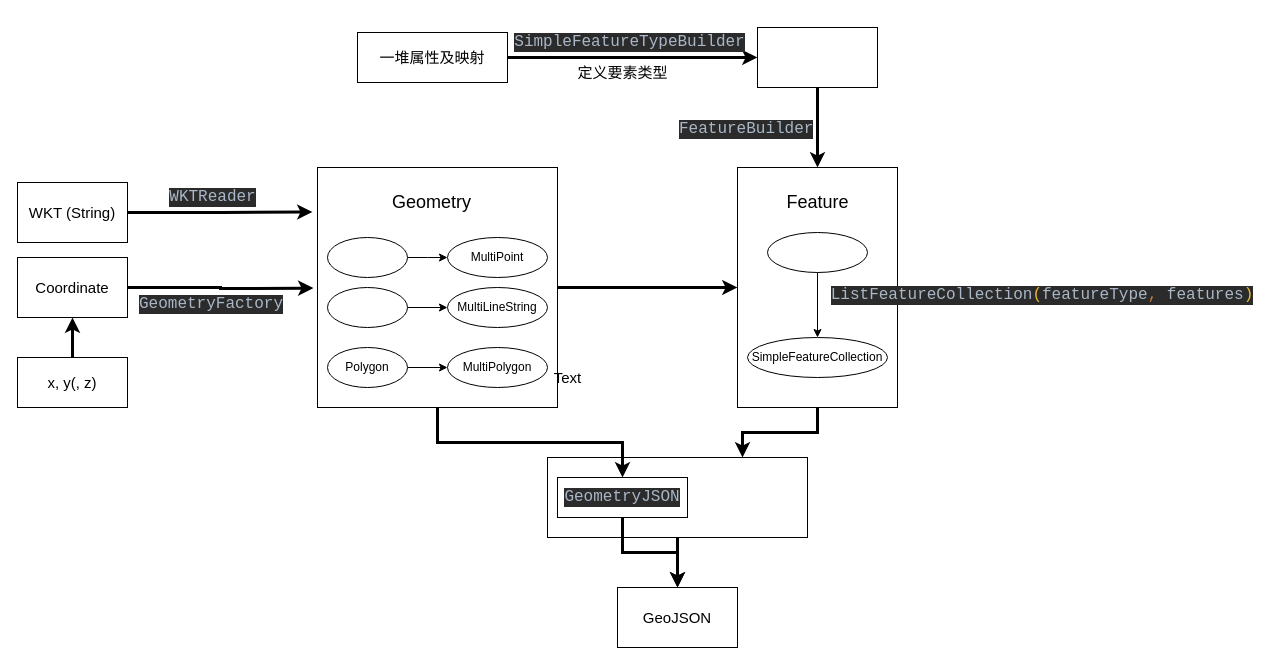
This 1285x665 diagram has some shape labels left out. The centre of each missing label's shape, as x and y in pixels:
"FeatureJSON" goes at point 677,497.
"FeatureType" goes at point 817,57.
"LineString" goes at point 367,307.
"Point" goes at point 367,257.
"SimpleFeature" goes at point 817,252.
